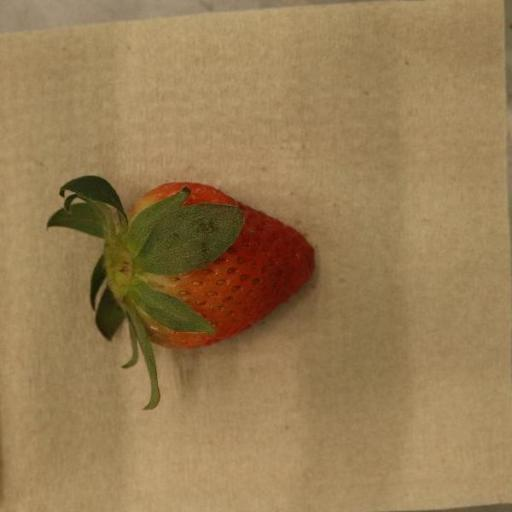Strawberry: (44, 176, 316, 412)
